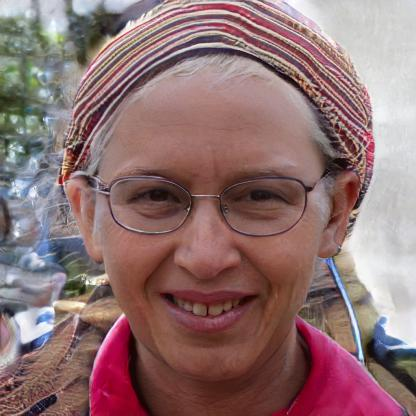glasses: (98, 171, 320, 243)
